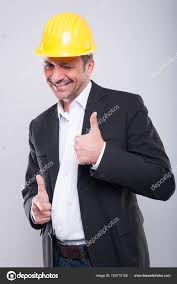Person_wearing_helmet: (35, 6, 104, 75)
